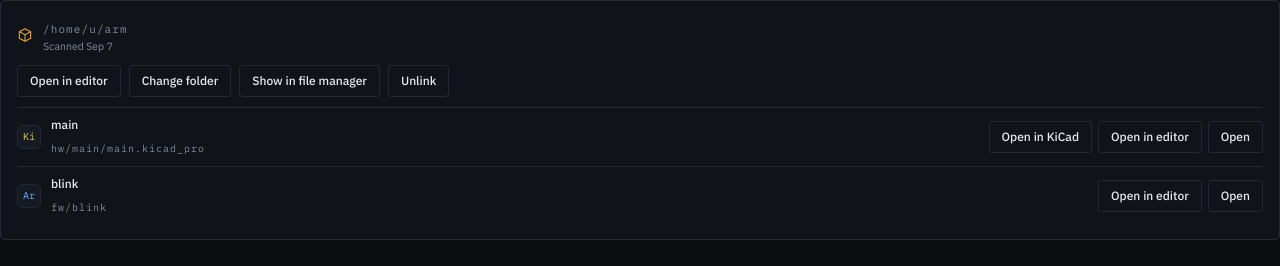
Test: ProjectFolderCard — scan state and detected projects › opens a detected project in its tool and shows the tool’s refusal inline
The width and height of the screenshot is (1280, 266).
Click the button "Open in KiCad": (1040, 137) [989, 121, 1092, 153]
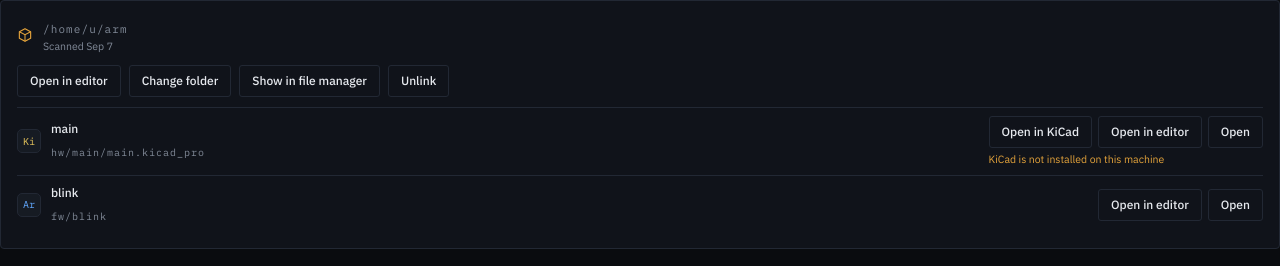
Now the text "KiCad is not installed on this machine" is shown, box [989, 152, 1164, 166]
